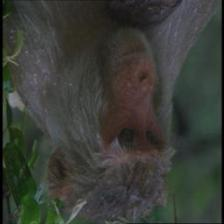monkey: (31, 23, 183, 224)
